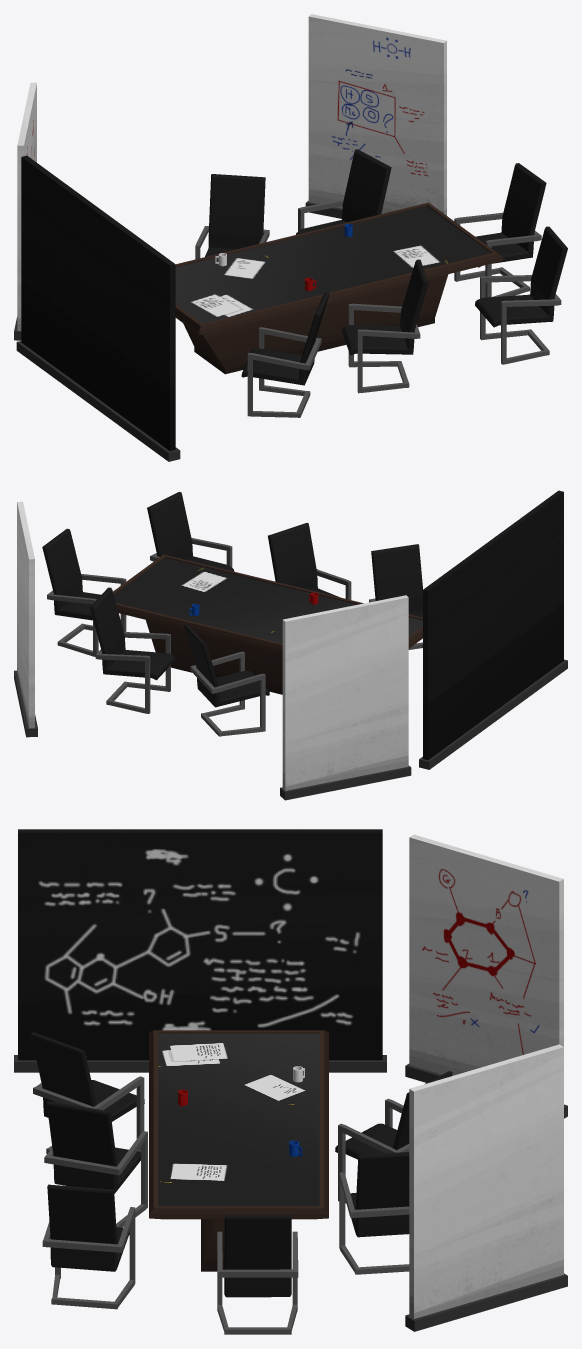
The model's file is ExperimentationRoom.FBX.
3 views of the same model, one above another, from view 1: azimuth 30°, elevation 25°; view 2: azimuth 150°, elevation 25°; view 3: azimuth 270°, elevation 25° (orthographic). The views are drawn at different scales.
Parts seen in each view (by area): view 1: Blackboard_001, Table_001, Whiteboard_002, OfficeChair_003, OfficeChair_002, OfficeChair_004, OfficeChair_006, OfficeChair_001, OfficeChair_005, Whiteboard_001; view 2: Blackboard_001, Whiteboard_001, Table_001, OfficeChair_005, OfficeChair_004, OfficeChair_006, Whiteboard_002, OfficeChair_002, OfficeChair_003, OfficeChair_001; view 3: Blackboard_001, Whiteboard_002, Table_001, Whiteboard_001, OfficeChair_003, OfficeChair_004, OfficeChair_002, OfficeChair_005, OfficeChair_001, OfficeChair_006.
Part boxes in pixels (<box>): Blackboard_001: <box>16,155,180,461</box>; Table_001: <box>175,202,503,374</box>; Whiteboard_002: <box>305,14,446,218</box>; OfficeChair_003: <box>475,226,567,364</box>; OfficeChair_002: <box>342,259,428,393</box>; OfficeChair_004: <box>454,163,546,297</box>; OfficeChair_006: <box>195,174,269,259</box>; OfficeChair_001: <box>241,292,329,417</box>; OfficeChair_005: <box>296,149,391,234</box>; Whiteboard_001: <box>14,82,36,340</box>; Blackboard_001: <box>419,490,567,769</box>; Whiteboard_001: <box>280,595,411,800</box>; Table_001: <box>113,554,422,694</box>; OfficeChair_005: <box>90,587,175,713</box>; OfficeChair_004: <box>42,528,126,656</box>; OfficeChair_006: <box>184,624,269,736</box>; Whiteboard_002: <box>14,501,37,737</box>; OfficeChair_002: <box>268,523,351,599</box>; OfficeChair_003: <box>147,492,234,571</box>; OfficeChair_001: <box>369,544,422,649</box>; Blackboard_001: <box>14,829,386,1072</box>; Whiteboard_002: <box>405,1044,567,1331</box>; Table_001: <box>149,1030,328,1271</box>; Whiteboard_001: <box>405,834,567,1118</box>; OfficeChair_003: <box>42,1184,135,1309</box>; OfficeChair_004: <box>217,1214,298,1334</box>; OfficeChair_002: <box>44,1101,147,1227</box>; OfficeChair_005: <box>339,1152,409,1274</box>; OfficeChair_001: <box>31,1032,144,1153</box>; OfficeChair_006: <box>335,1071,452,1203</box>.
Bounding box in the file's own units: 376 × 151 × 317.
Materials: 8 (8 with a texture image).
